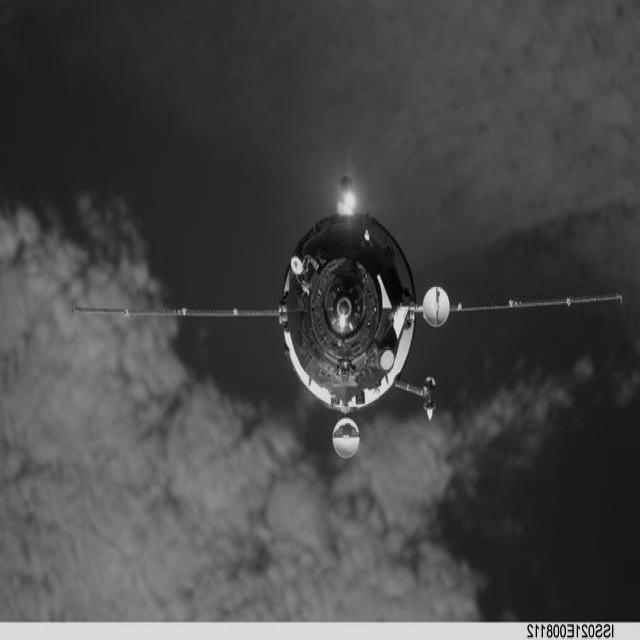medium_debris: (74, 178, 622, 459)
